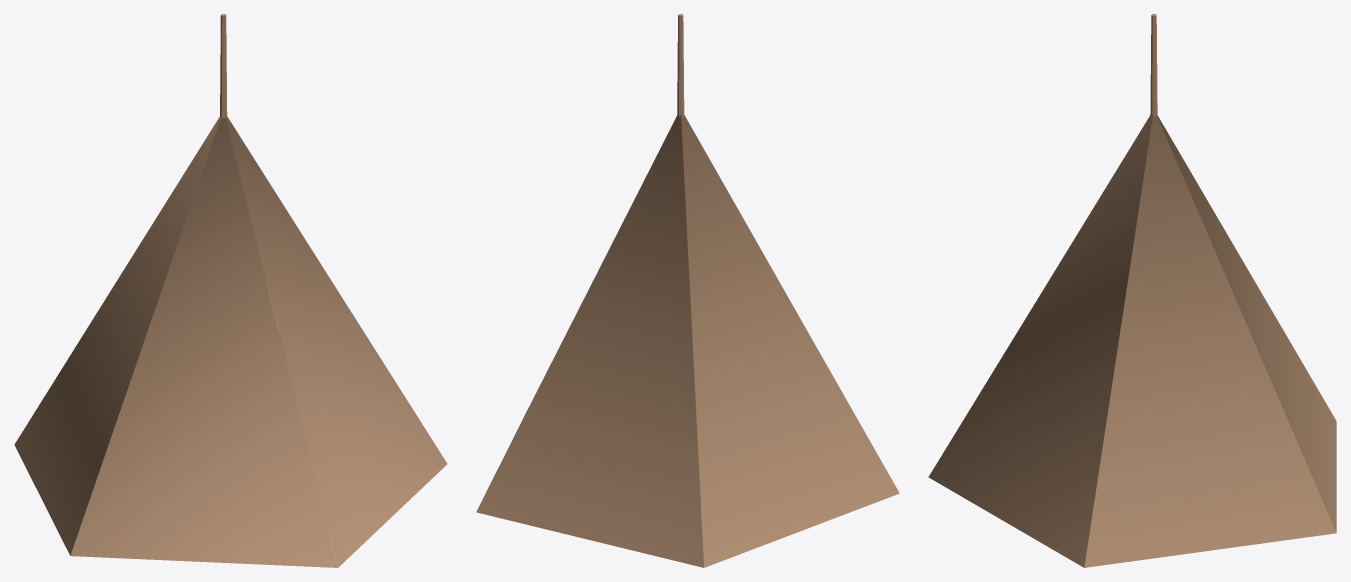
The model's file is city.glb.
3 renders of one model, left to right at view 1: azimuth 30°, elevation 25°; view 2: azimuth 150°, elevation 25°; view 3: azimuth 270°, elevation 25°, orthographic. The views are drawn at different scales.
Parts seen in each view (by area): view 1: LOD0._color_rgb_186_149_118_emissive_n; view 2: LOD0._color_rgb_186_149_118_emissive_n; view 3: LOD0._color_rgb_186_149_118_emissive_n.
Part boxes in pixels (x1,y1,x2,y2): LOD0._color_rgb_186_149_118_emissive_n: [14, 14, 447, 567]; LOD0._color_rgb_186_149_118_emissive_n: [476, 14, 899, 567]; LOD0._color_rgb_186_149_118_emissive_n: [928, 14, 1336, 567].
Size of what is drawn, in the model's own units: 951 by 1130 by 905.
